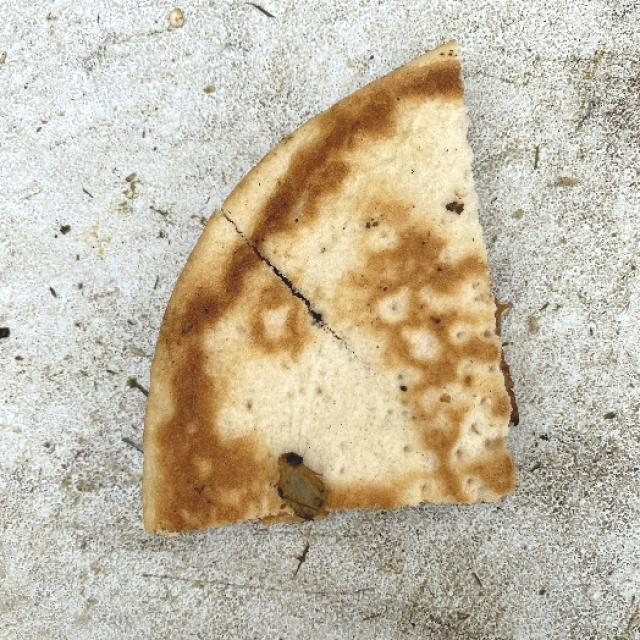organic: (132, 42, 506, 535)
